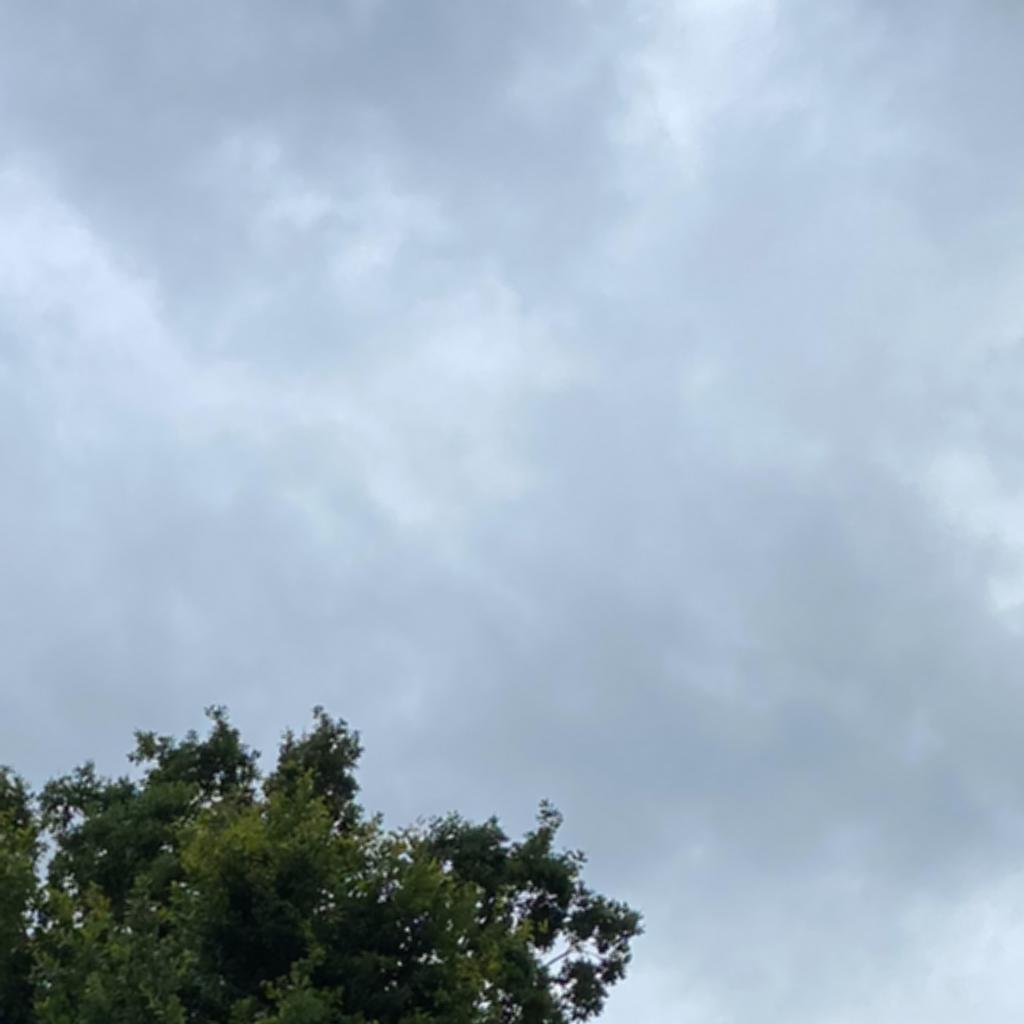tree: (1, 703, 646, 1024)
